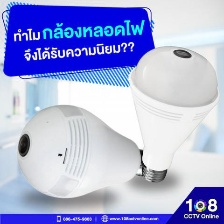light_bulb: (123, 39, 223, 187), (13, 100, 157, 202)
